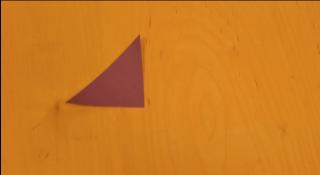Triangle: (61, 34, 143, 107)
